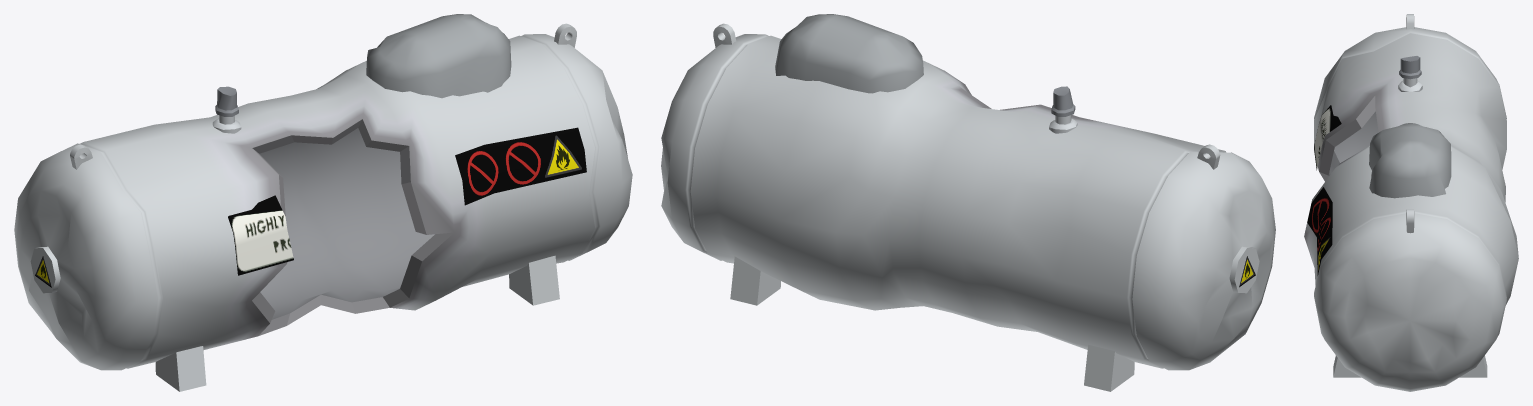
Rendered from SM_Prop_PropaneTank_03_Damaged_03.obj.
3 renders of one model, left to right at view 1: azimuth 30°, elevation 25°; view 2: azimuth 150°, elevation 25°; view 3: azimuth 270°, elevation 25°, orthographic. The views are drawn at different scales.
Visible parts, largest first — view 1: SM_Prop_PropaneTank_03_Damaged_03_Mat_SwatchOverlay_PolygonTown_, SM_Prop_PropaneTank_03_Damaged_03_M_StickerAtlas_Inst; view 2: SM_Prop_PropaneTank_03_Damaged_03_Mat_SwatchOverlay_PolygonTown_; view 3: SM_Prop_PropaneTank_03_Damaged_03_Mat_SwatchOverlay_PolygonTown_, SM_Prop_PropaneTank_03_Damaged_03_M_StickerAtlas_Inst.
Boxes of the visible parts, x1,y1,x2,y2 form: SM_Prop_PropaneTank_03_Damaged_03_Mat_SwatchOverlay_PolygonTown_: [14, 14, 632, 391]; SM_Prop_PropaneTank_03_Damaged_03_M_StickerAtlas_Inst: [35, 127, 586, 287]; SM_Prop_PropaneTank_03_Damaged_03_Mat_SwatchOverlay_PolygonTown_: [661, 14, 1275, 391]; SM_Prop_PropaneTank_03_Damaged_03_Mat_SwatchOverlay_PolygonTown_: [1304, 14, 1518, 391]; SM_Prop_PropaneTank_03_Damaged_03_M_StickerAtlas_Inst: [1307, 105, 1341, 275].
Bounding box in the file's own units: 3.23 × 1.49 × 1.3.
Materials: 2 (2 with a texture image).
